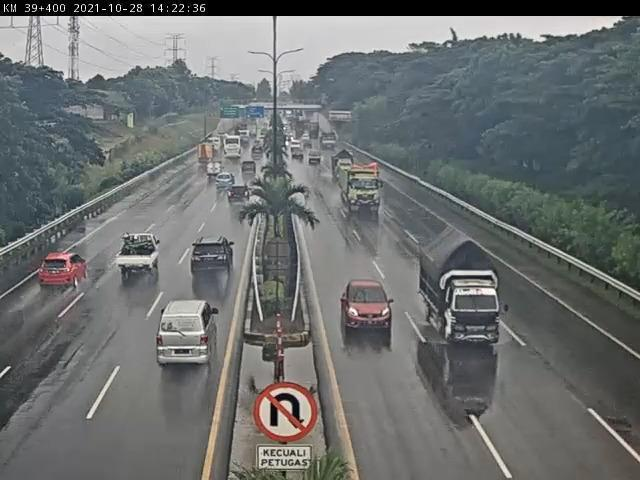car: (156, 299, 220, 368), (341, 279, 395, 329), (117, 233, 162, 278), (39, 254, 89, 289), (192, 237, 236, 274), (228, 185, 251, 205), (215, 172, 236, 192), (240, 161, 259, 177)
truck: (421, 226, 505, 345), (337, 166, 383, 216), (206, 160, 225, 178)
